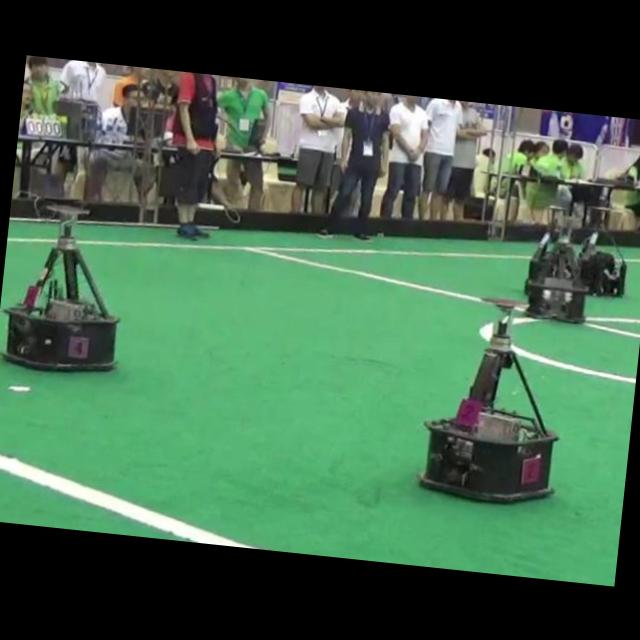robot: (420, 296, 558, 501), (4, 219, 117, 368), (526, 205, 589, 321), (579, 204, 626, 294)
